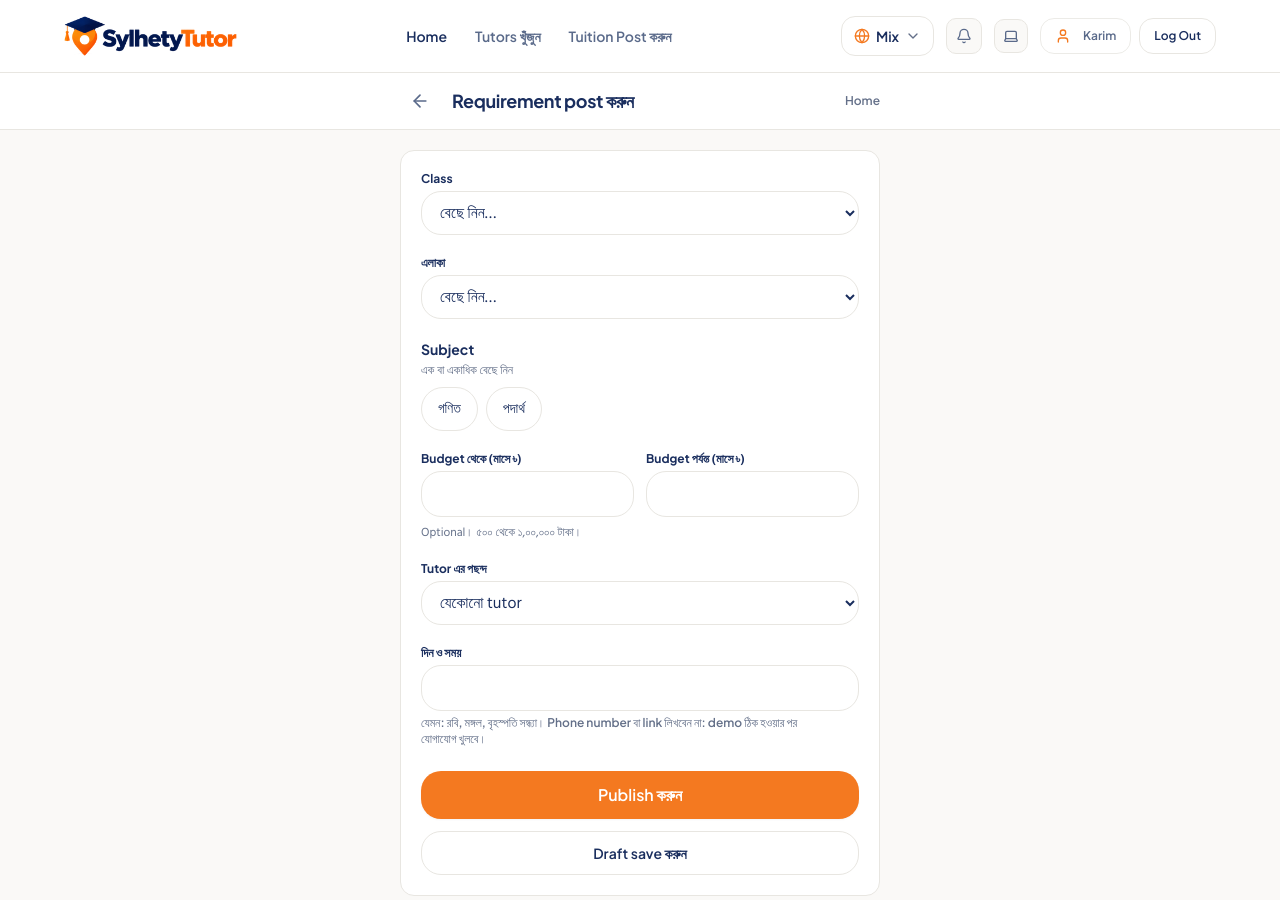
Test: RequirementForm › shows the contact-details error next to the note, in the guardian's language
Select "এইচএসসি" in the dropdown labelled "Class". click: {"x": 640, "y": 213}
box: left=421, top=191, right=859, bottom=235
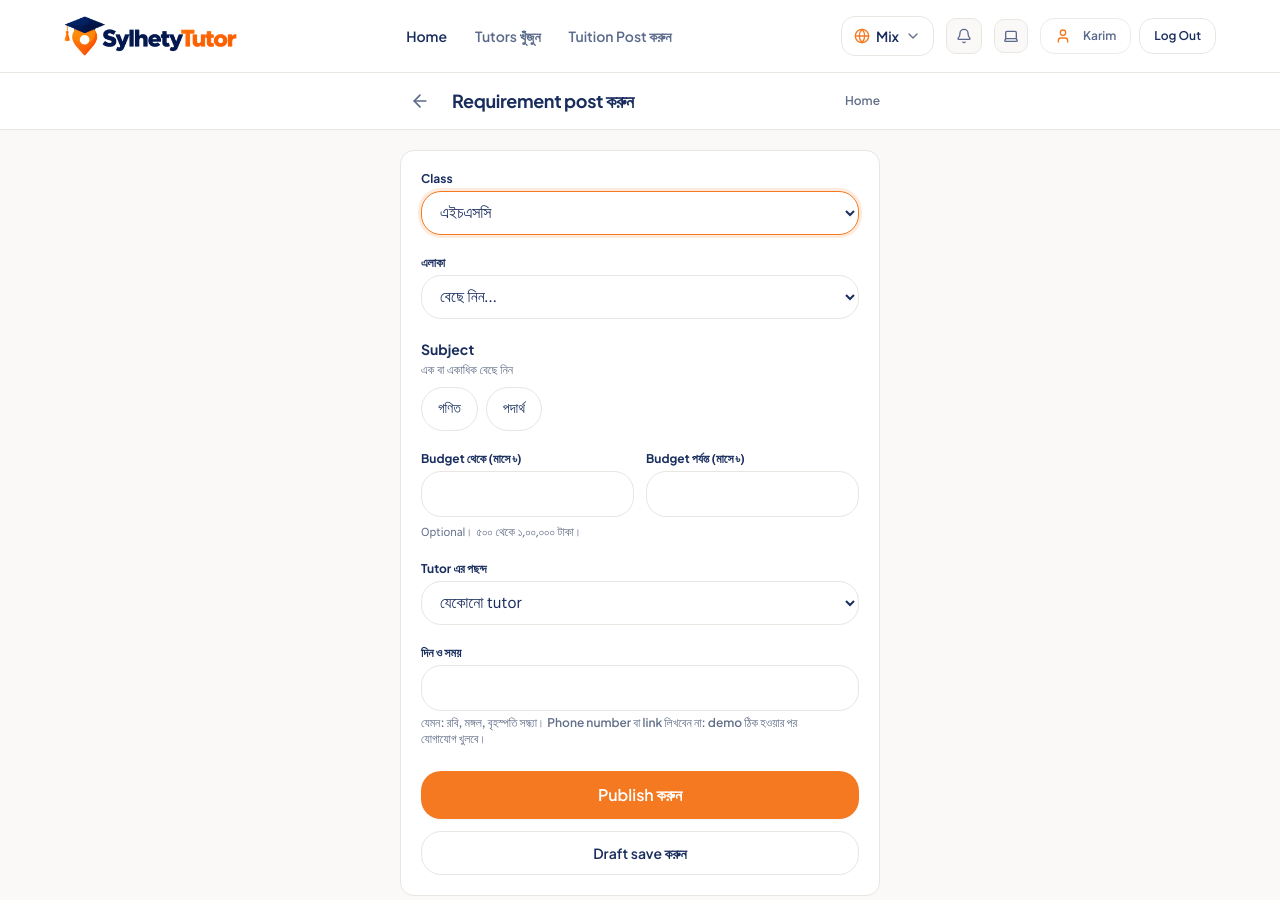
Select "আম্বরখানা" in the dropdown labelled "এলাকা". click: {"x": 640, "y": 297}
box: left=421, top=275, right=859, bottom=319
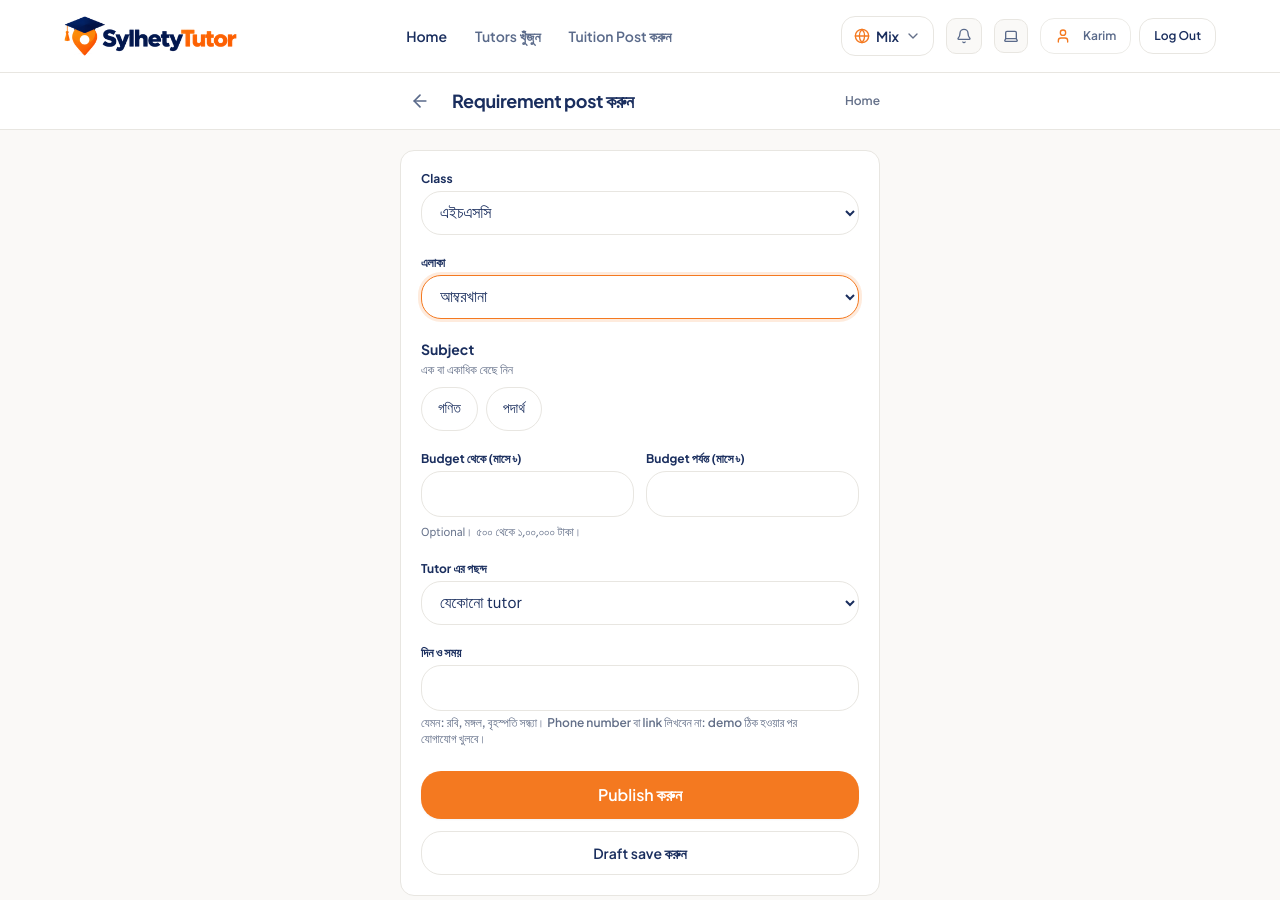
Click the button "গণিত". click: {"x": 449, "y": 409}
box: left=421, top=387, right=478, bottom=431
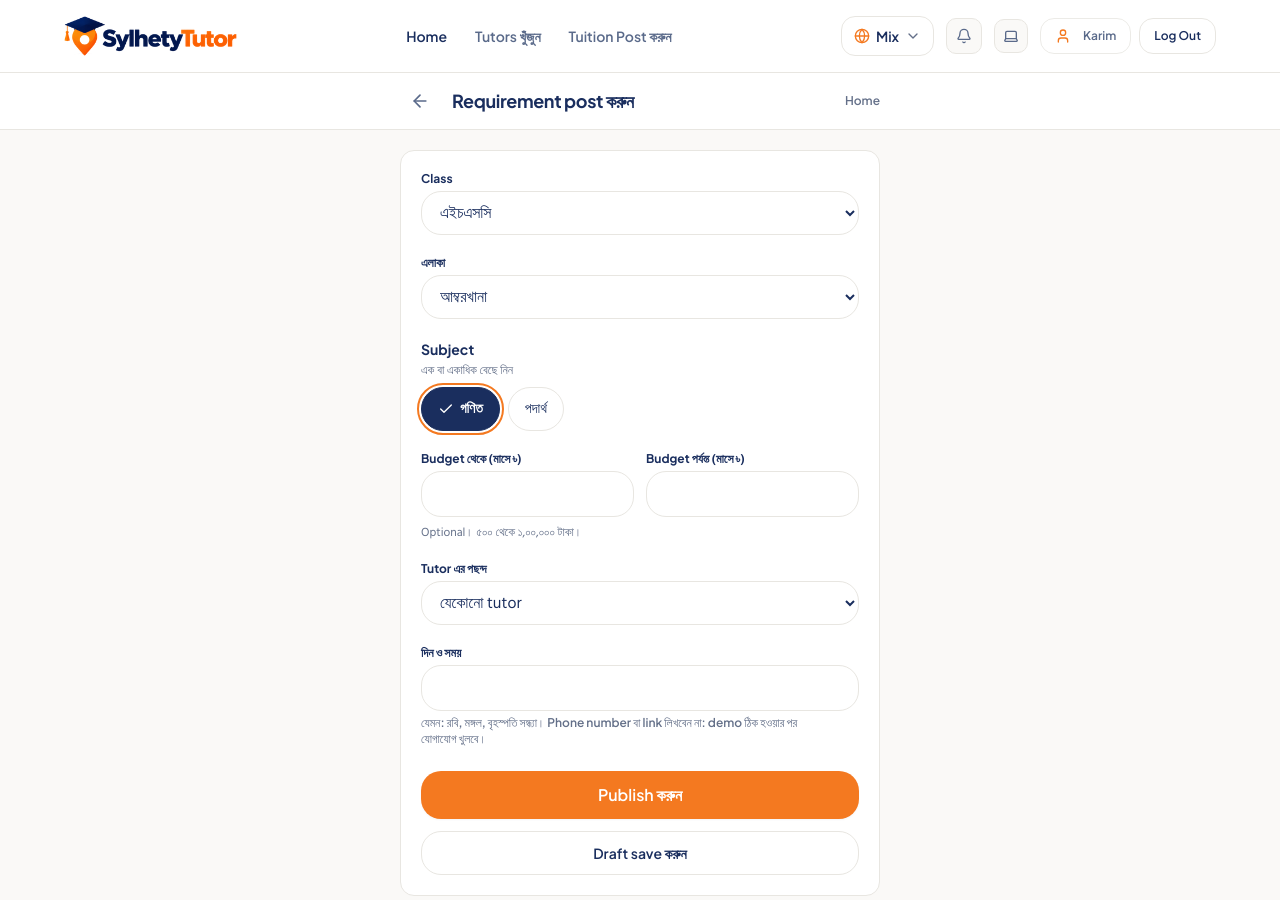
Type "call 01712345678" into the field labelled "দিন ও সময়". click: {"x": 640, "y": 688}
box: left=421, top=665, right=859, bottom=711
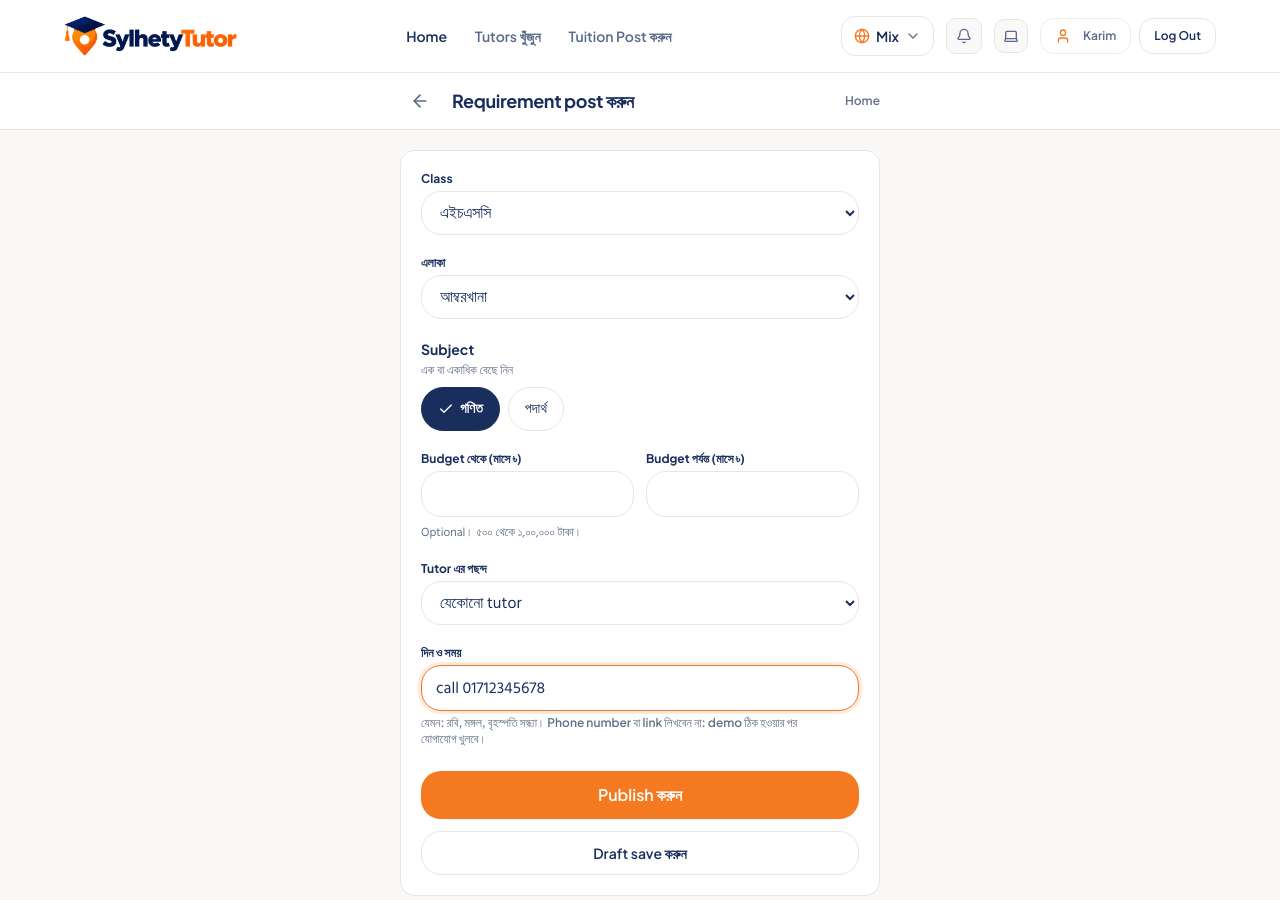
Click the button "Draft save করুন". click: {"x": 640, "y": 853}
box: left=421, top=831, right=859, bottom=875
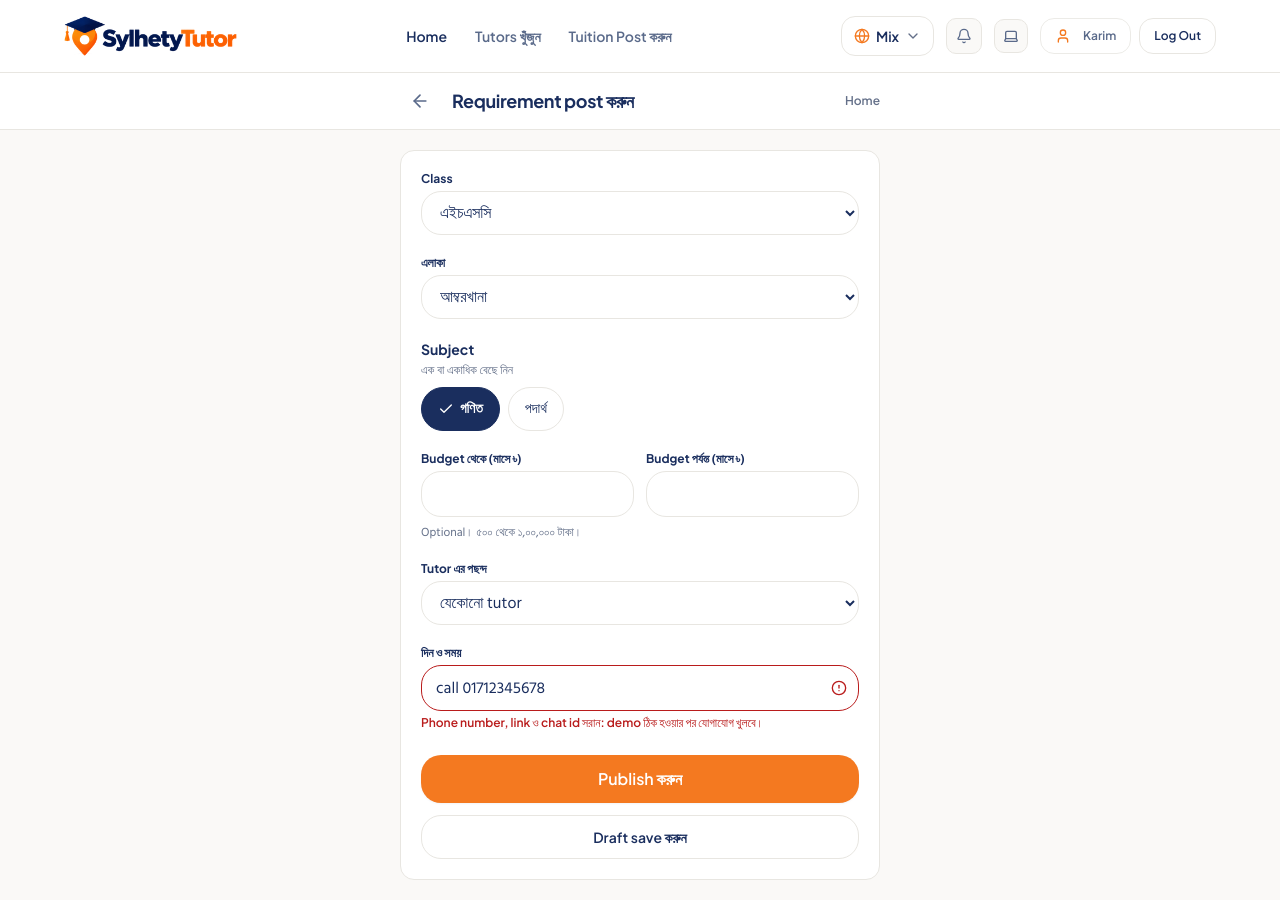
Result: the text "Phone number, link ও chat id সরান: demo ঠিক হওয়ার পর যোগাযোগ খুলবে।" is shown at left=421, top=715, right=764, bottom=730
